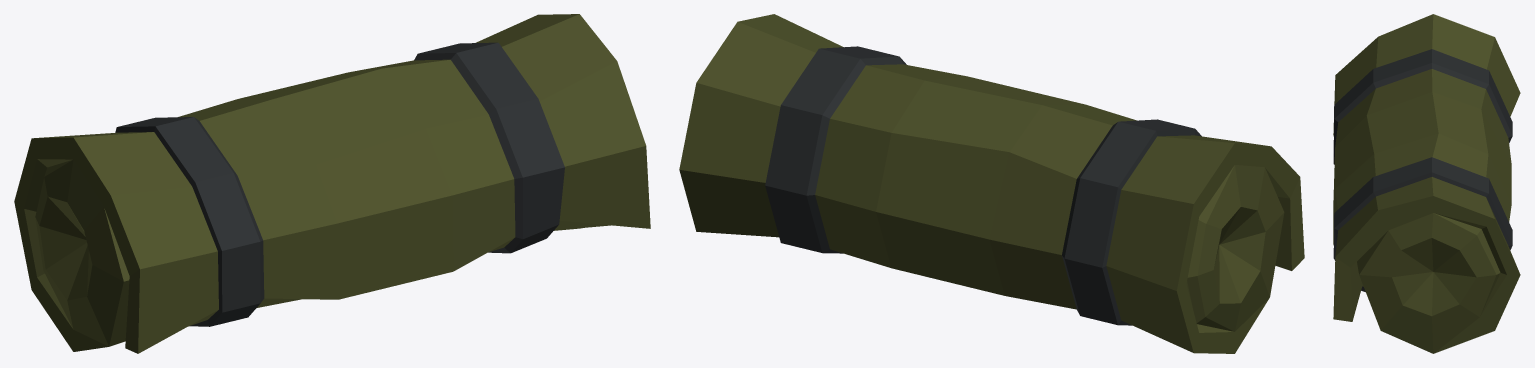
Rendered from SM_Prop_Bed_SleepingBag_Roll_01.glb.
The picture shows the model from 3 angles, left to right: view 1: azimuth 30°, elevation 25°; view 2: azimuth 150°, elevation 25°; view 3: azimuth 270°, elevation 25°; orthographic projection. The views are drawn at different scales.
Visible parts, largest first — view 1: SM_Prop_Bed_SleepingBag_Roll_01; view 2: SM_Prop_Bed_SleepingBag_Roll_01; view 3: SM_Prop_Bed_SleepingBag_Roll_01.
Boxes of the visible parts, box(x1,y1,x2,y2) form: SM_Prop_Bed_SleepingBag_Roll_01: box(14, 14, 650, 353); SM_Prop_Bed_SleepingBag_Roll_01: box(679, 14, 1304, 353); SM_Prop_Bed_SleepingBag_Roll_01: box(1333, 14, 1520, 353).
Bounding box in the file's own units: 0.8913 × 0.3524 × 0.3782.
Materials: 1 (1 with a texture image).
